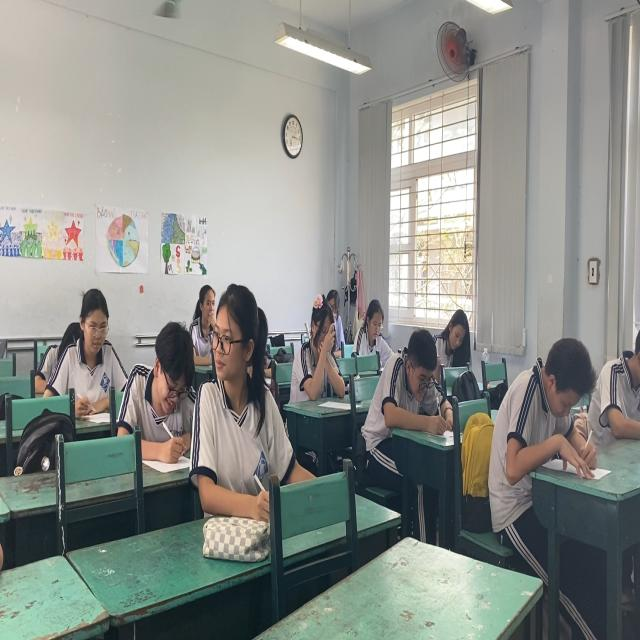cheating: (203, 282, 282, 475)
not_cheating: (488, 337, 591, 457), (49, 281, 130, 402), (121, 313, 193, 447), (276, 275, 345, 402), (375, 327, 434, 427), (352, 292, 397, 368), (426, 303, 473, 372), (183, 282, 220, 354)
